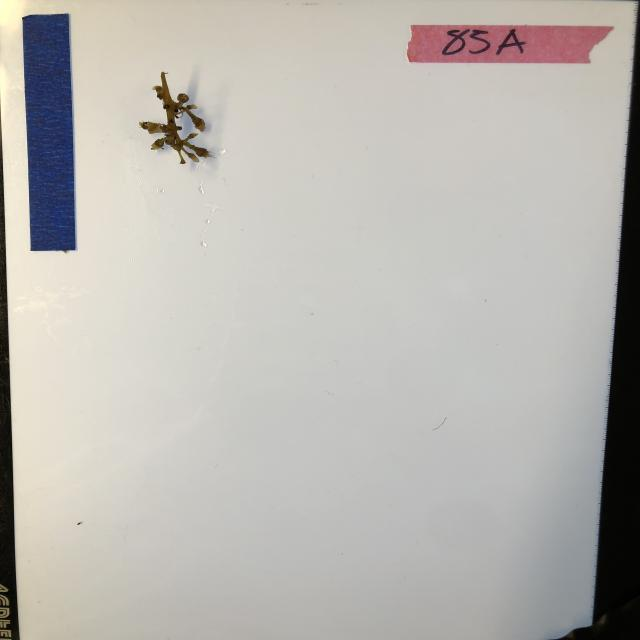index: (409, 24, 613, 63)
measure_label: (20, 12, 78, 253)
rachis_cluster: (136, 70, 217, 164)
